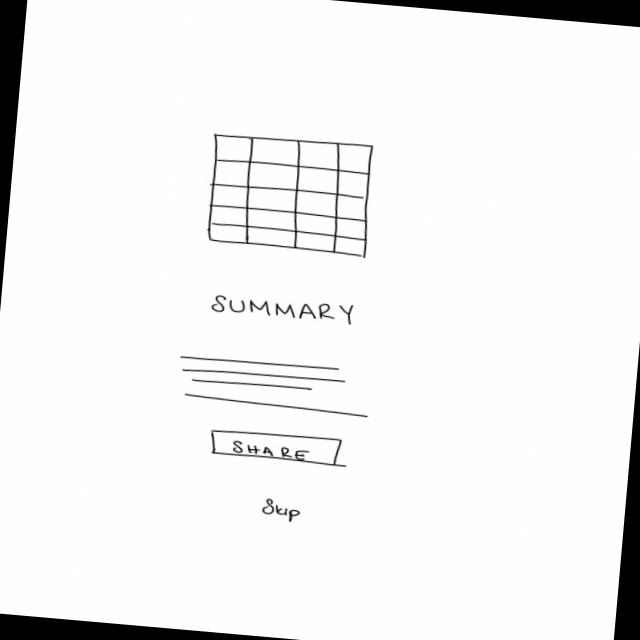button: (208, 426, 344, 468)
label: (208, 290, 358, 327), (258, 496, 304, 524)
table: (204, 129, 378, 260)
textbox: (172, 351, 374, 418)
